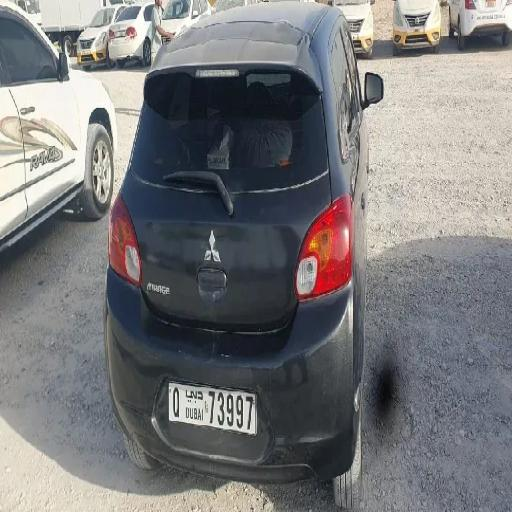license-plates: (168, 382, 257, 435)
